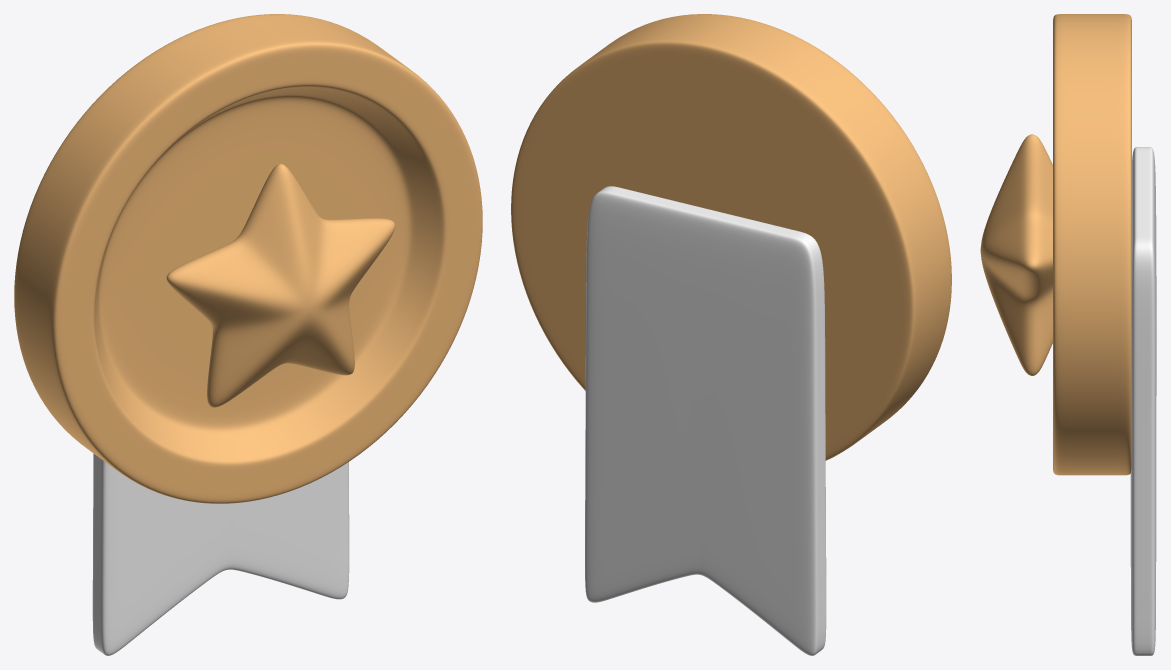
File: mic.glb
The picture shows the model from 3 angles, left to right: view 1: azimuth 30°, elevation 25°; view 2: azimuth 150°, elevation 25°; view 3: azimuth 270°, elevation 25°; orthographic projection. The views are drawn at different scales.
Visible parts, largest first — view 1: Cube.037; view 2: Cube.037; view 3: Cube.037.
Boxes of the visible parts, x1=… form: Cube.037: x1=14, y1=14, x2=482, y2=655; Cube.037: x1=511, y1=14, x2=951, y2=655; Cube.037: x1=980, y1=14, x2=1156, y2=655.
Size of the model in its own units: 1.42 by 1.93 by 0.5421.
